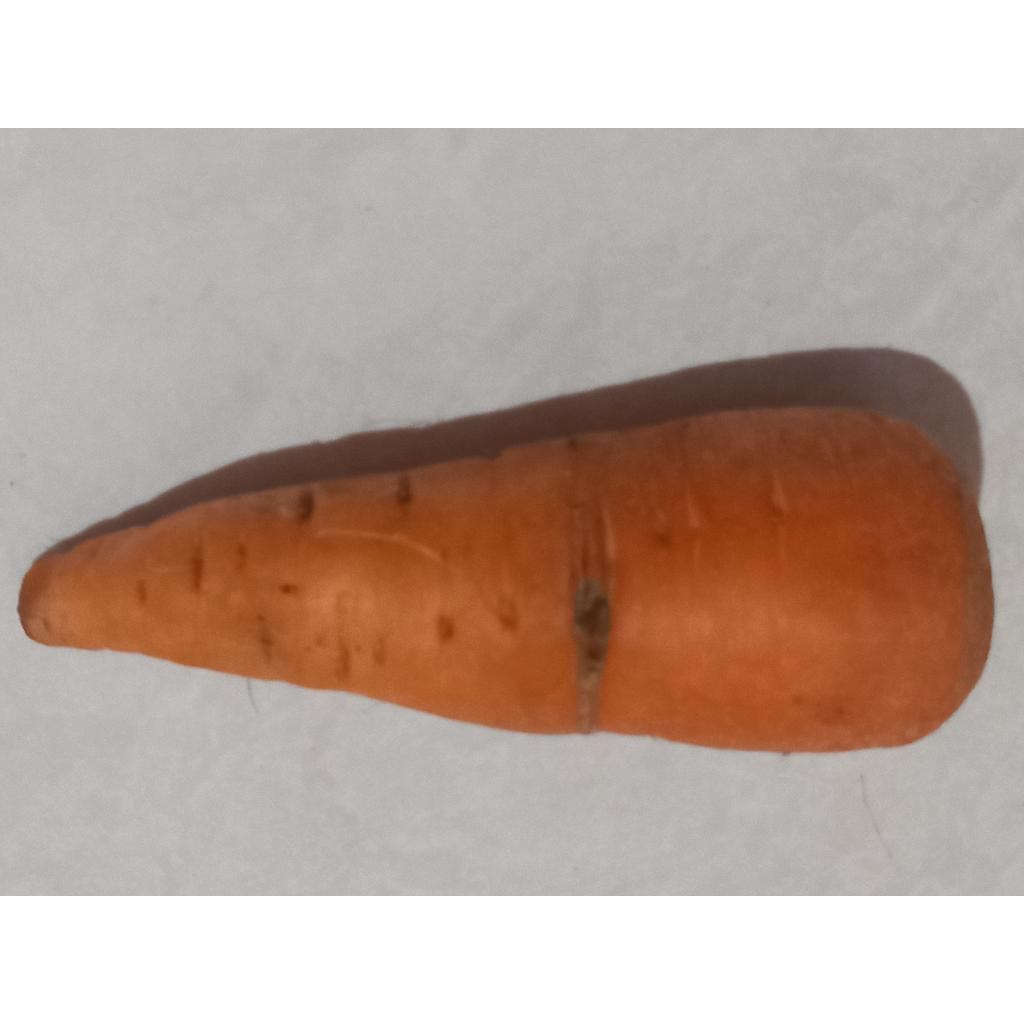carrot: (20, 408, 992, 752)
